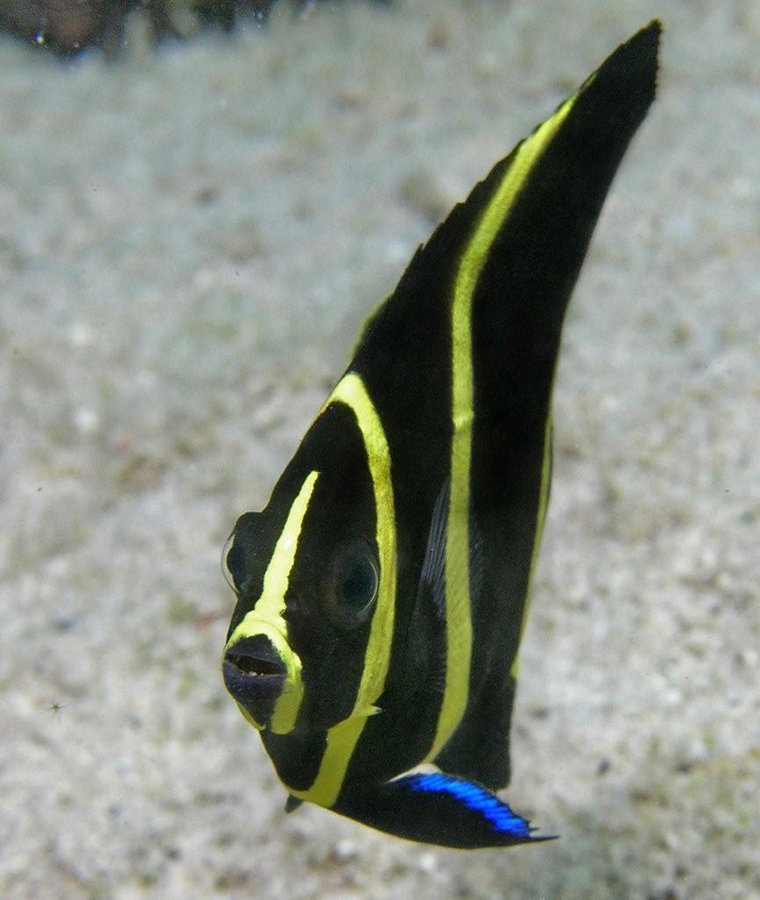Pomacanthus_paru: (163, 12, 739, 874)
